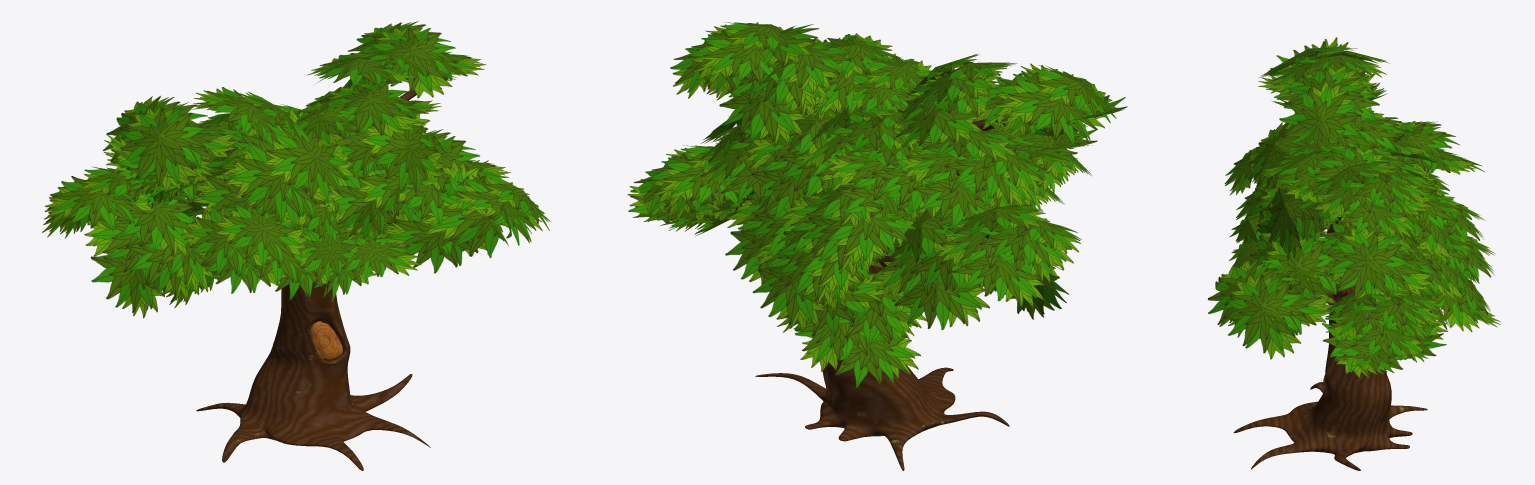
File: fantasy_tree.glb
The picture shows the model from 3 angles, left to right: view 1: azimuth 30°, elevation 25°; view 2: azimuth 150°, elevation 25°; view 3: azimuth 270°, elevation 25°; orthographic projection. The views are drawn at different scales.
Parts seen in each view (by area): view 1: LowPol.001; view 2: LowPol.001; view 3: LowPol.001.
Part boxes in pixels (left/top/right/bottom): LowPol.001: left=42, top=21, right=550, bottom=470; LowPol.001: left=627, top=22, right=1127, bottom=470; LowPol.001: left=1208, top=37, right=1500, bottom=470.
Size of the model in its own units: 7.79 by 5.69 by 5.25.
Materials: 3 (3 with a texture image).
